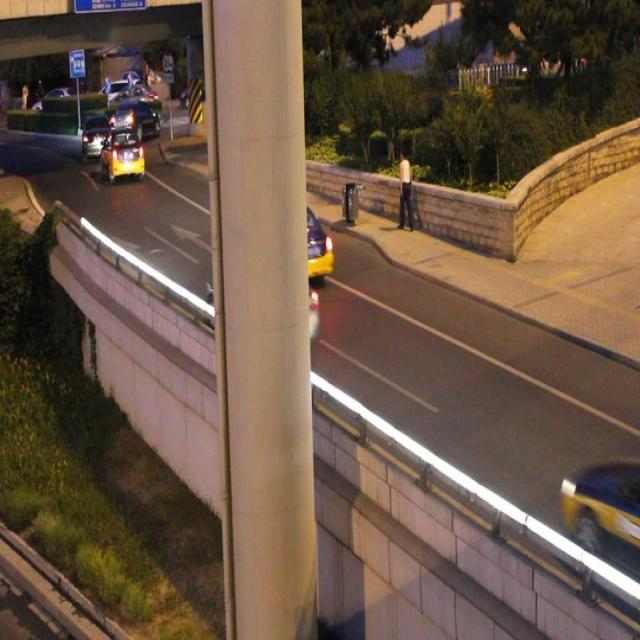car: (563, 455, 640, 574), (209, 261, 298, 346), (253, 213, 332, 279), (101, 133, 144, 178), (83, 117, 111, 158)
